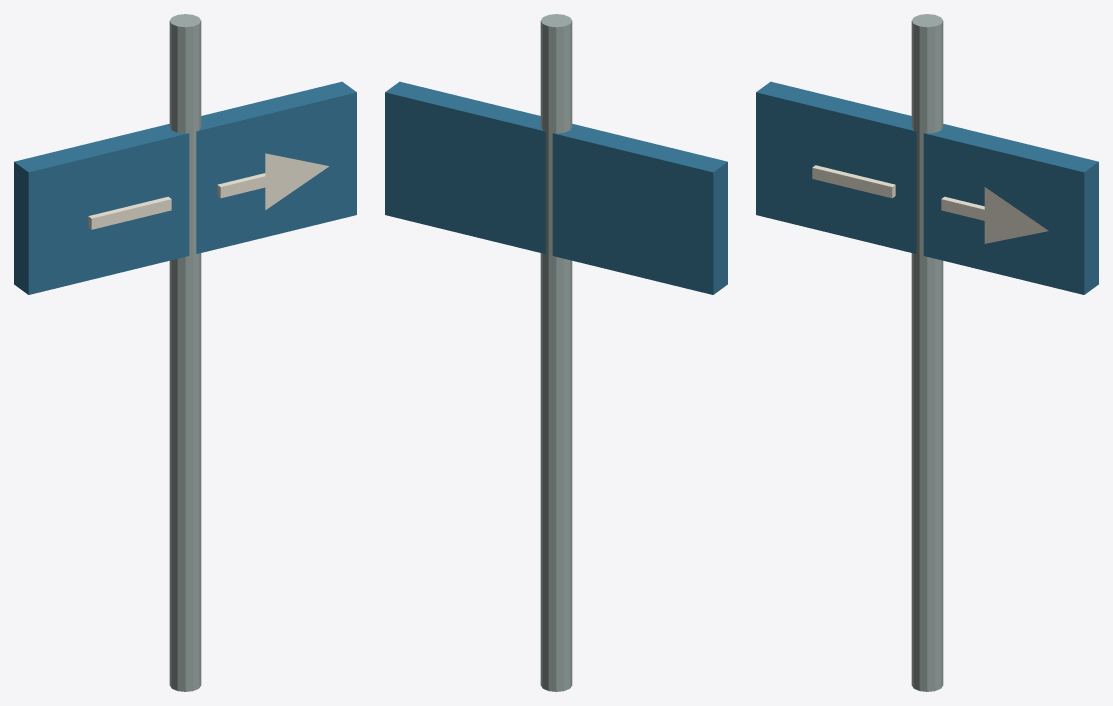
The model's file is 042_direction_sign.glb.
The picture shows the model from 3 angles, left to right: view 1: azimuth 30°, elevation 25°; view 2: azimuth 150°, elevation 25°; view 3: azimuth 330°, elevation 25°; orthographic projection.
Visible parts, largest first — view 1: Direction sign; view 2: Direction sign; view 3: Direction sign.
Boxes of the visible parts, bbox=[...] form: Direction sign: bbox=[14, 14, 356, 691]; Direction sign: bbox=[385, 14, 727, 691]; Direction sign: bbox=[756, 14, 1098, 691].
Size of the model in its own units: 1.68 by 3.25 by 0.17.
